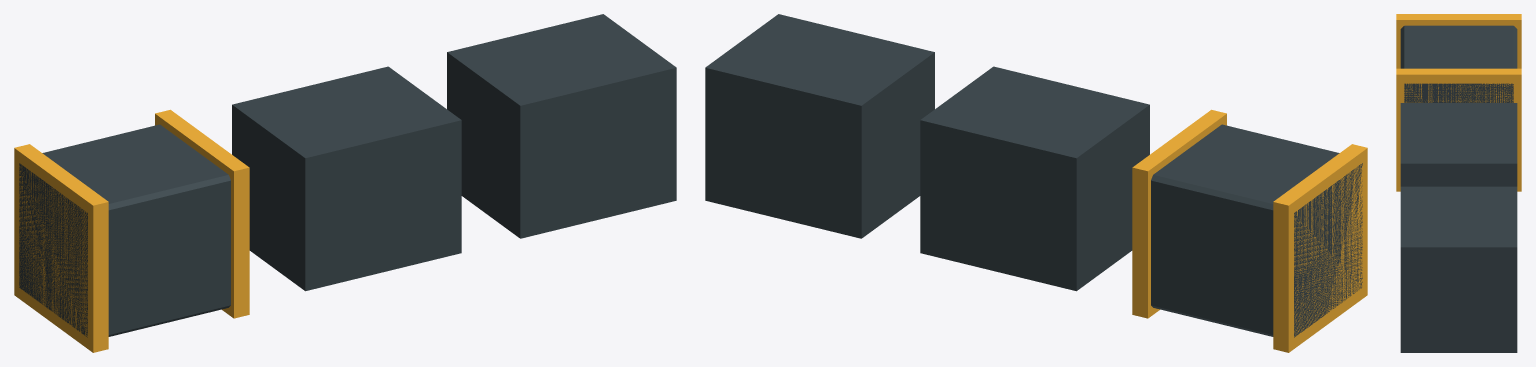
File: compliance_supply_crate_lod.glb
3 renders of one model, left to right at view 1: azimuth 30°, elevation 25°; view 2: azimuth 150°, elevation 25°; view 3: azimuth 270°, elevation 25°, orthographic. The views are drawn at different scales.
Parts seen in each view (by area): view 1: LOD2_Crate, LOD1_Crate, LOD0_Crate, LOD0_Rail_-0.72, LOD0_Rail_0.72; view 2: LOD2_Crate, LOD1_Crate, LOD0_Crate, LOD0_Rail_-0.72, LOD0_Rail_0.72; view 3: LOD2_Crate, LOD1_Crate, LOD0_Crate, LOD0_Rail_0.72, LOD0_Rail_-0.72.
Boxes of the visible parts, left/top/right/bottom form: LOD2_Crate: left=447, top=14, right=676, bottom=238; LOD1_Crate: left=232, top=66, right=461, bottom=291; LOD0_Crate: left=19, top=124, right=230, bottom=337; LOD0_Rail_-0.72: left=14, top=144, right=108, bottom=352; LOD0_Rail_0.72: left=155, top=109, right=249, bottom=318; LOD2_Crate: left=705, top=14, right=934, bottom=238; LOD1_Crate: left=920, top=66, right=1149, bottom=291; LOD0_Crate: left=1151, top=124, right=1362, bottom=337; LOD0_Rail_-0.72: left=1273, top=144, right=1367, bottom=352; LOD0_Rail_0.72: left=1132, top=109, right=1226, bottom=318; LOD2_Crate: left=1400, top=186, right=1517, bottom=352; LOD1_Crate: left=1400, top=103, right=1517, bottom=186; LOD0_Crate: left=1400, top=25, right=1517, bottom=102; LOD0_Rail_0.72: left=1396, top=68, right=1521, bottom=191; LOD0_Rail_-0.72: left=1396, top=14, right=1521, bottom=68.
Size of what is drawn, in the model's own units: 6 by 1.44 by 1.4.
